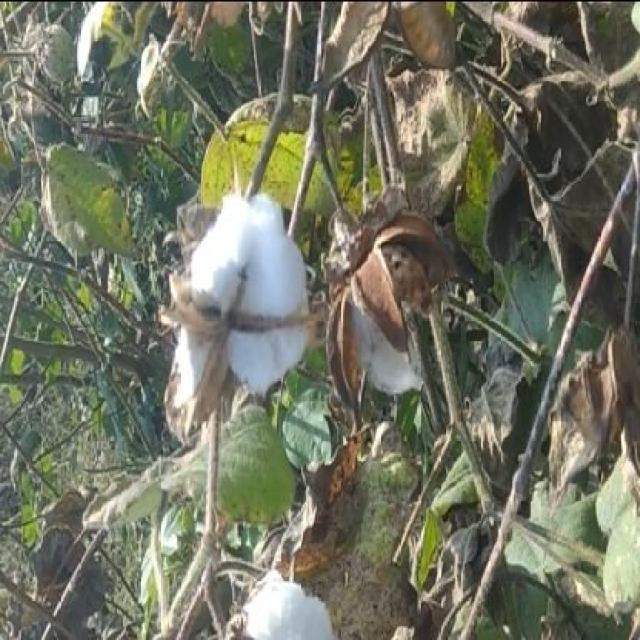cotton_ready: (152, 158, 346, 434)
